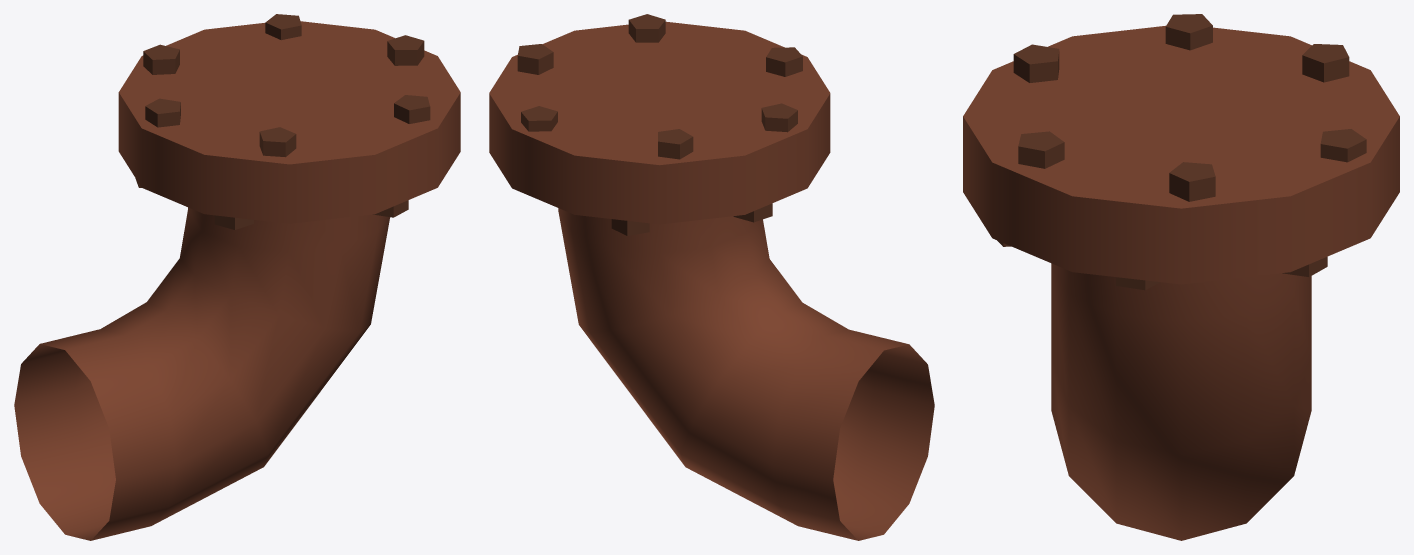
Rendered from canos_002.fbx.
The picture shows the model from 3 angles, left to right: view 1: azimuth 30°, elevation 25°; view 2: azimuth 150°, elevation 25°; view 3: azimuth 270°, elevation 25°; orthographic projection. The views are drawn at different scales.
Parts seen in each view (by area): view 1: canos_002; view 2: canos_002; view 3: canos_002.
Boxes of the visible parts, box(x1,y1,x2,y2) form: canos_002: box(14, 14, 460, 540); canos_002: box(489, 14, 934, 540); canos_002: box(963, 14, 1399, 540).
Size of the model in its own units: 152 by 157 by 121.
